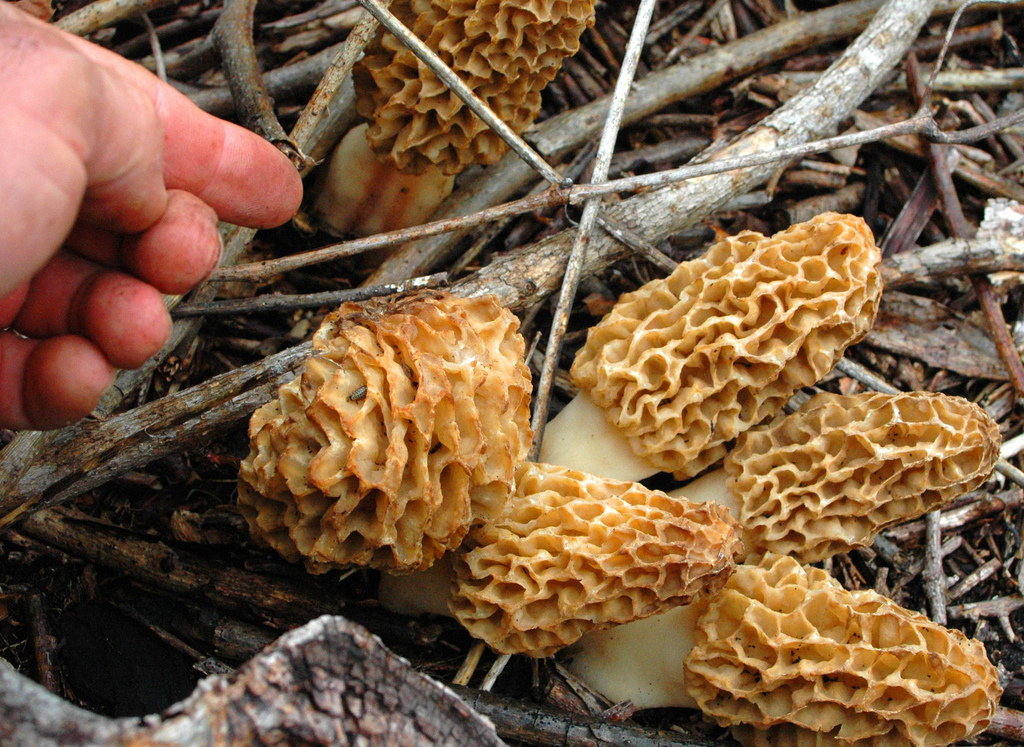slice of bread: (299, 383, 414, 444)
